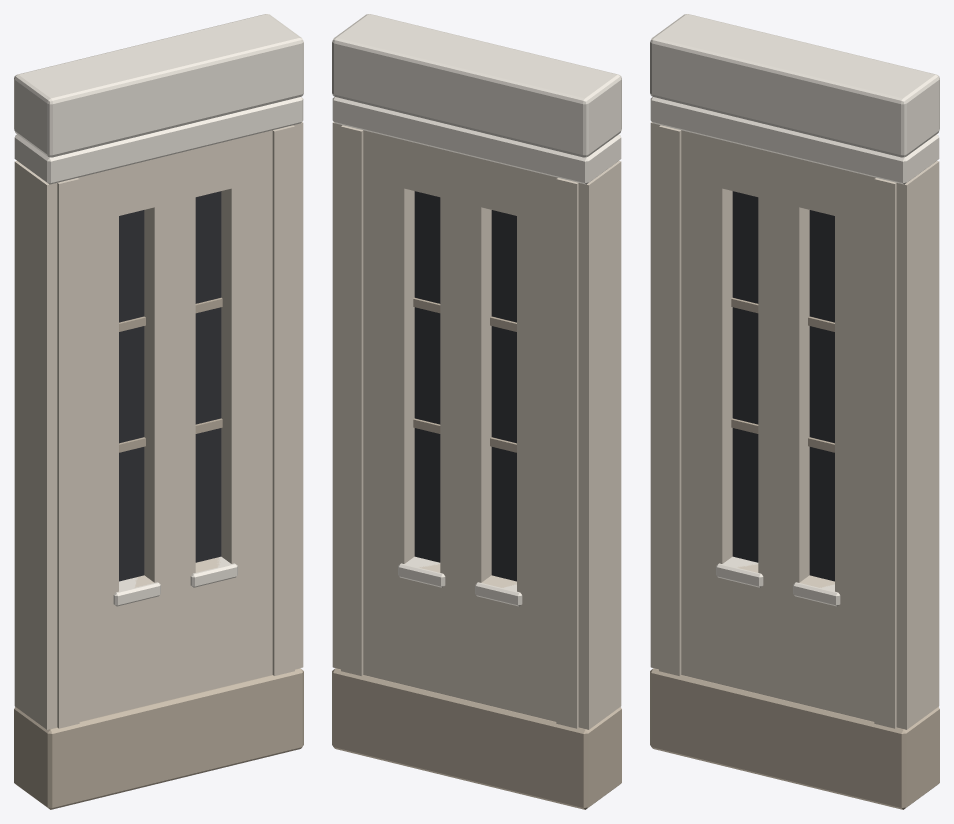
File: parede_igreja_janela.glb
3 views of the same model, side by side, from view 1: azimuth 30°, elevation 25°; view 2: azimuth 150°, elevation 25°; view 3: azimuth 330°, elevation 25° (orthographic).
Visible parts, largest first — view 1: parede_igreja_janela; view 2: parede_igreja_janela; view 3: parede_igreja_janela.
Boxes of the visible parts, x1,y1,x2,y2 form: parede_igreja_janela: [14, 14, 303, 809]; parede_igreja_janela: [332, 14, 621, 809]; parede_igreja_janela: [650, 14, 939, 809].
Bounding box in the file's own units: 1 × 2.65 × 0.25.
